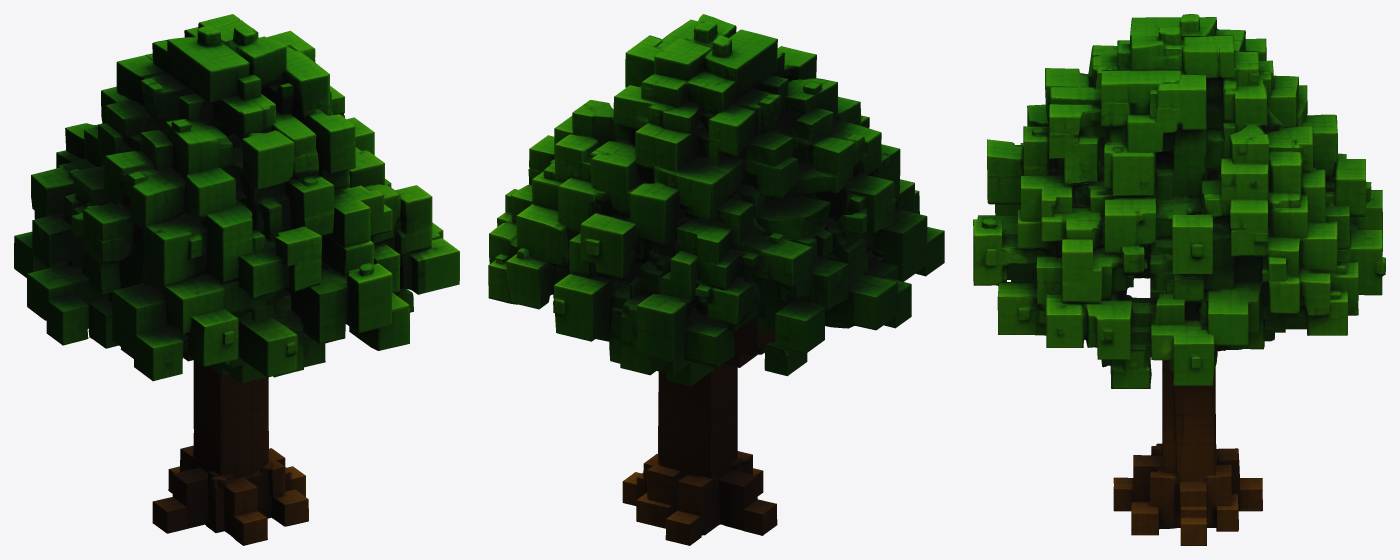
Rendered from tree2.glb.
3 views of the same model, side by side, from view 1: azimuth 30°, elevation 25°; view 2: azimuth 150°, elevation 25°; view 3: azimuth 270°, elevation 25° (orthographic).
Visible parts, largest first — view 1: geometry_0.006; view 2: geometry_0.006; view 3: geometry_0.006.
Part boxes in pixels (box(x1,y1,x2,y2)): geometry_0.006: box(14, 14, 459, 545); geometry_0.006: box(488, 14, 944, 545); geometry_0.006: box(973, 14, 1385, 545).
Size of the model in its own units: 0.5258 by 0.6629 by 0.5118.
Materials: 1 (1 with a texture image).
